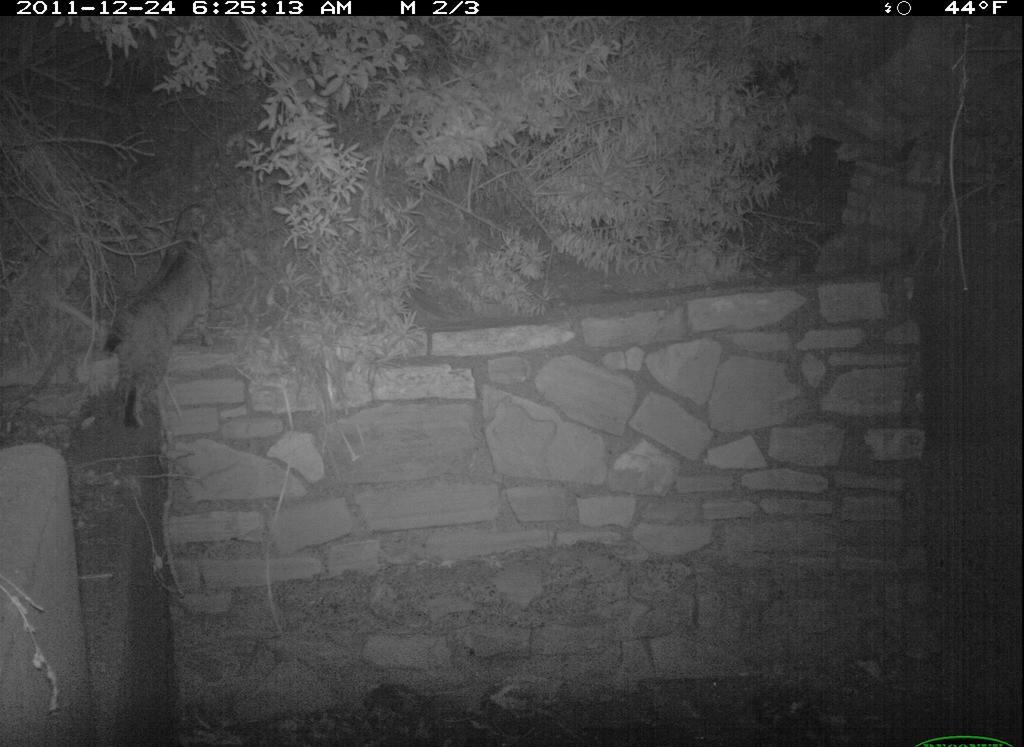bobcat: (95, 195, 235, 446)
